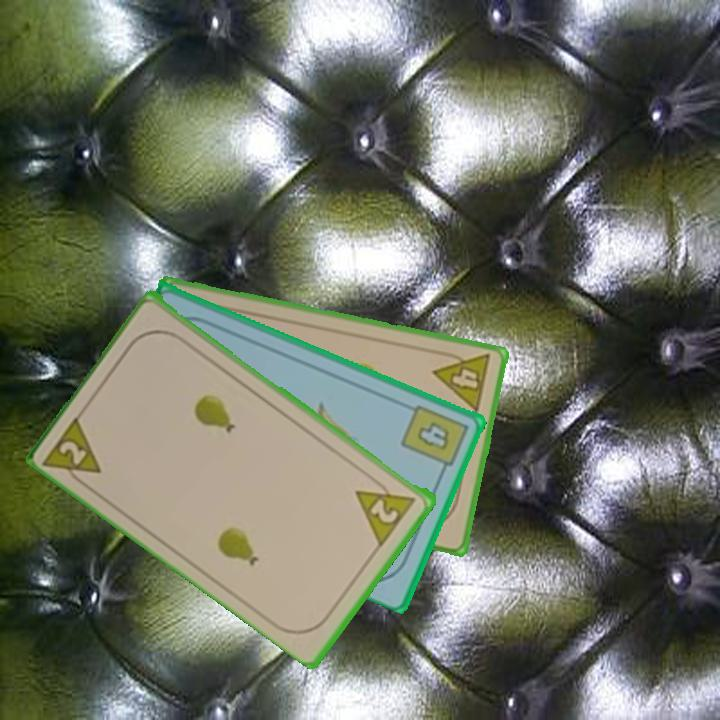2p: (40, 410, 106, 493), (352, 472, 419, 548)
4b: (397, 400, 471, 478)
4p: (430, 346, 494, 416)
